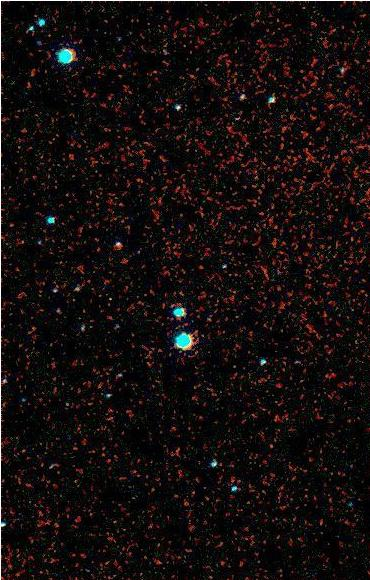star: (91, 285, 121, 315)
